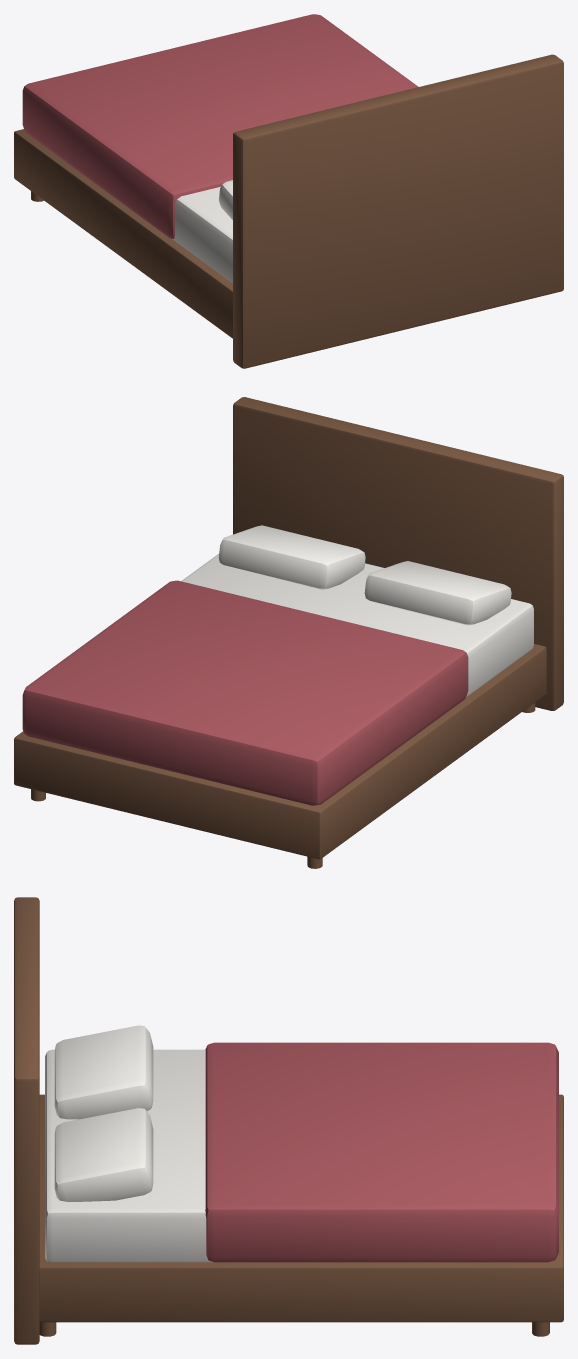
Rendered from hotel_bed.glb.
3 views of the same model, one above another, from view 1: azimuth 30°, elevation 25°; view 2: azimuth 150°, elevation 25°; view 3: azimuth 270°, elevation 25° (orthographic). The views are drawn at different scales.
Parts seen in each view (by area): view 1: HotelBed_Mesh; view 2: HotelBed_Mesh; view 3: HotelBed_Mesh.
Boxes of the visible parts, left/top/right/bottom form: HotelBed_Mesh: left=14, top=14, right=563, bottom=368; HotelBed_Mesh: left=14, top=397, right=563, bottom=868; HotelBed_Mesh: left=14, top=897, right=563, bottom=1344.
Size of the model in its own units: 1.68 by 1.15 by 2.14.
